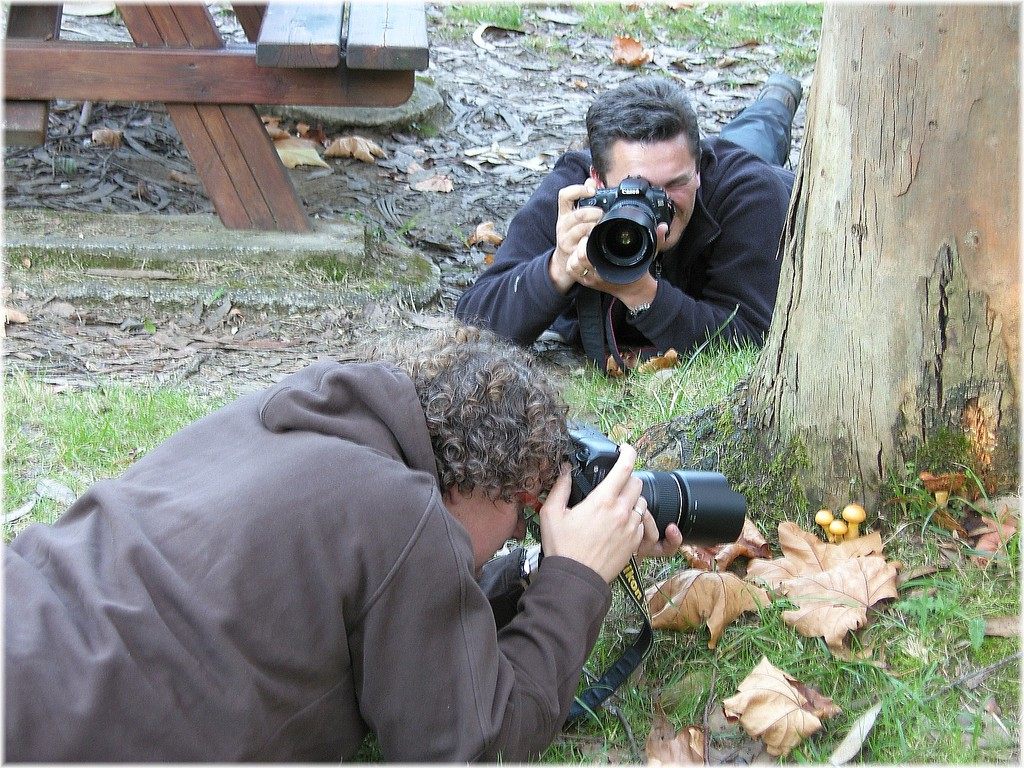Tree: (631, 1, 1021, 555)
